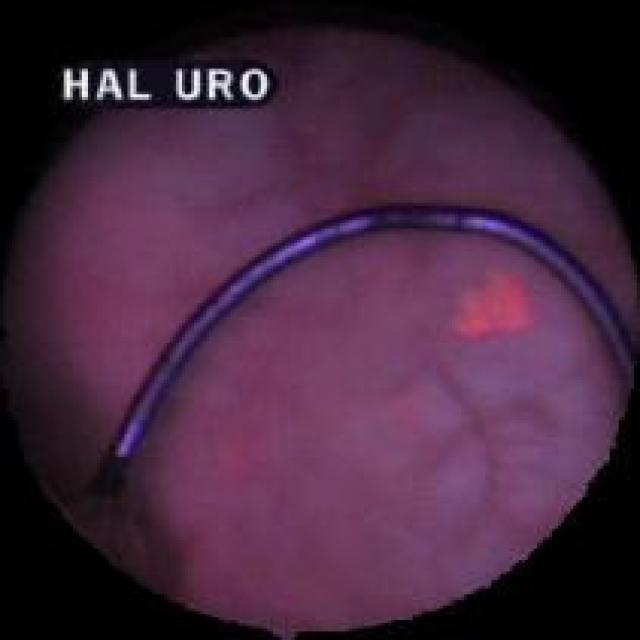color misalignment: (54, 54, 294, 114)
contrast: (23, 346, 170, 591)
instrument: (105, 200, 639, 508)
